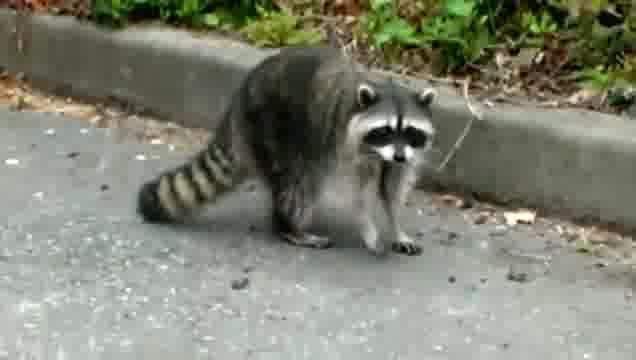raccoon: (141, 46, 435, 256)
